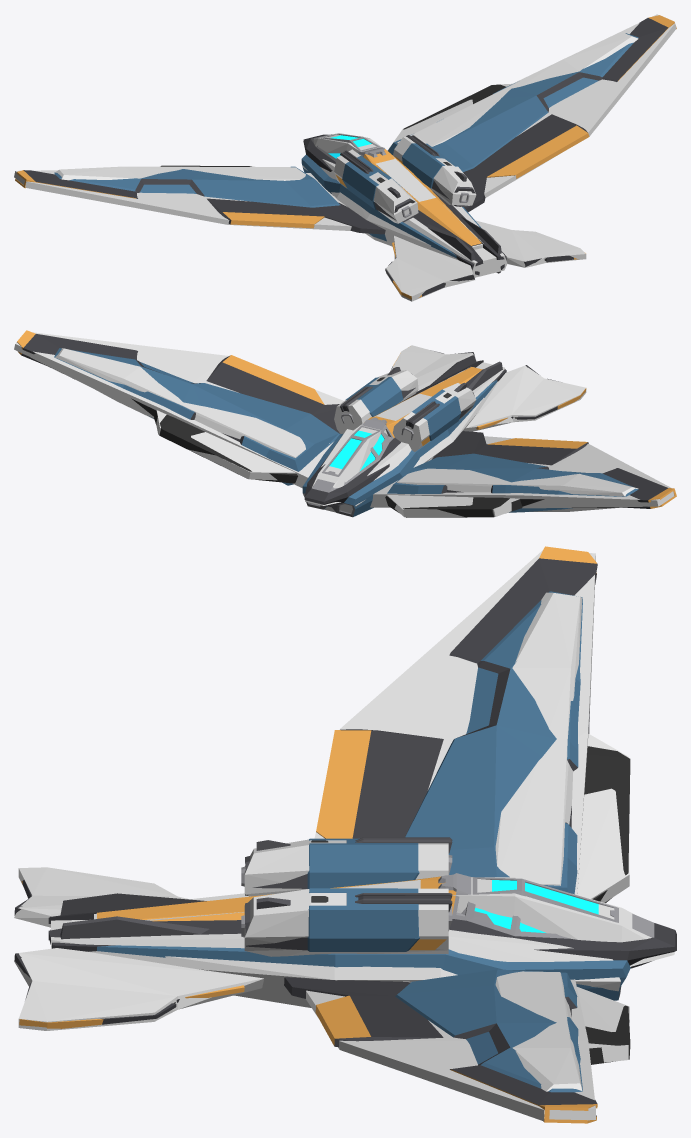
Rendered from SM_Ship_Stealth_05.fbx.
The picture shows the model from 3 angles, top to bottom: view 1: azimuth 30°, elevation 25°; view 2: azimuth 150°, elevation 25°; view 3: azimuth 270°, elevation 25°; orthographic projection. The views are drawn at different scales.
Parts seen in each view (by area): view 1: SM_Ship_Stealth_05_LOD0, SM_Ship_Stealth_05_ConvexHulls; view 2: SM_Ship_Stealth_05_ConvexHulls, SM_Ship_Stealth_05_LOD0; view 3: SM_Ship_Stealth_05_LOD0, SM_Ship_Stealth_05_ConvexHulls.
Part boxes in pixels (<box>): SM_Ship_Stealth_05_LOD0: <box>15,15,676,299</box>; SM_Ship_Stealth_05_ConvexHulls: <box>14,14,676,301</box>; SM_Ship_Stealth_05_ConvexHulls: <box>14,332,674,517</box>; SM_Ship_Stealth_05_LOD0: <box>17,330,676,517</box>; SM_Ship_Stealth_05_LOD0: <box>14,546,676,1123</box>; SM_Ship_Stealth_05_ConvexHulls: <box>14,550,674,1121</box>.
Size of the model in its own units: 1215 by 2446 by 320.
Materials: 1 (1 with a texture image).
